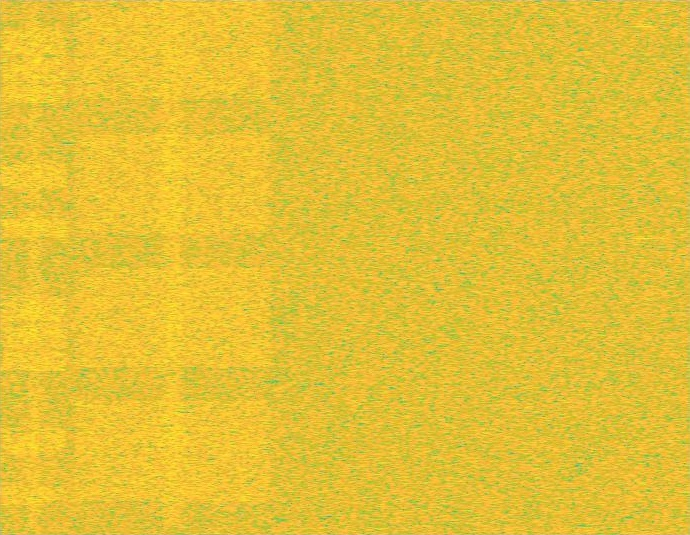5G: (69, 0, 276, 534)
DSSS: (159, 0, 186, 534), (27, 0, 42, 534)
LTE: (0, 0, 69, 534)
Radar: (637, 0, 650, 534)
